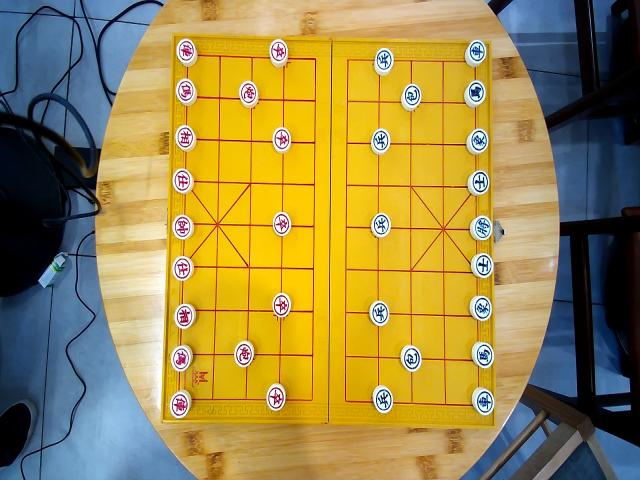piece: (471, 386, 495, 415), (471, 339, 494, 368), (169, 388, 191, 418), (469, 214, 493, 241), (471, 251, 494, 279), (170, 344, 192, 373), (464, 38, 486, 67), (464, 79, 486, 108), (176, 38, 197, 68), (176, 76, 197, 106), (469, 294, 492, 321), (400, 344, 422, 372), (268, 38, 288, 68), (172, 167, 194, 194), (172, 213, 194, 240), (172, 254, 194, 281), (467, 169, 489, 196), (466, 128, 488, 155), (372, 384, 393, 412), (266, 382, 286, 411), (238, 79, 258, 108), (374, 46, 394, 75), (271, 125, 291, 153), (175, 123, 195, 151), (234, 340, 254, 367), (369, 300, 389, 327), (174, 302, 194, 329), (401, 83, 421, 110), (370, 127, 390, 154), (271, 292, 291, 318), (370, 212, 390, 237), (272, 211, 290, 236)
